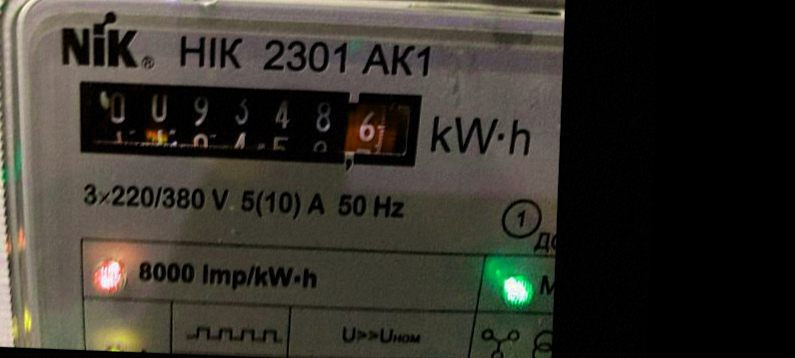0: (146, 89, 169, 126), (105, 90, 126, 125)
3: (228, 93, 251, 126)
4: (268, 95, 290, 133)
6: (355, 108, 378, 143)
8: (311, 99, 332, 133)
9: (189, 92, 208, 127)
screen: (51, 66, 440, 183)
